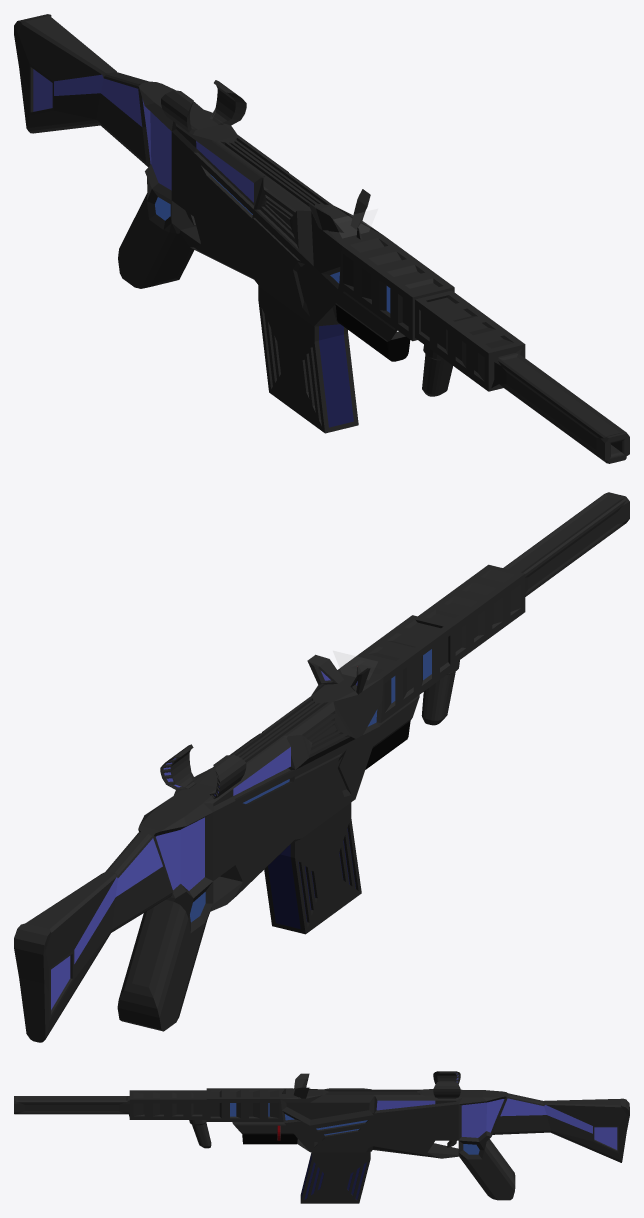
The model's file is scorpious9.glb.
The picture shows the model from 3 angles, top to bottom: view 1: azimuth 30°, elevation 25°; view 2: azimuth 150°, elevation 25°; view 3: azimuth 270°, elevation 25°; orthographic projection. The views are drawn at different scales.
Visible parts, largest first — view 1: Cube, Cube.001; view 2: Cube, Cube.001; view 3: Cube, Cube.001.
Part boxes in pixels (bbox=[...]): Cube: bbox=[14, 14, 629, 463]; Cube.001: bbox=[258, 285, 358, 433]; Cube: bbox=[14, 492, 629, 1042]; Cube.001: bbox=[264, 802, 361, 934]; Cube: bbox=[14, 1071, 629, 1200]; Cube.001: bbox=[300, 1151, 370, 1203].
Size of the model in its own units: 0.786 by 2.96 by 13.45.
